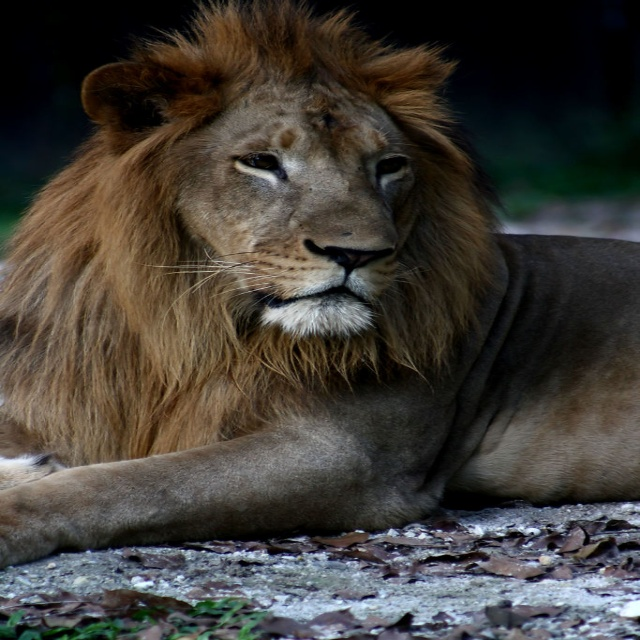Lion: (0, 2, 639, 572)
